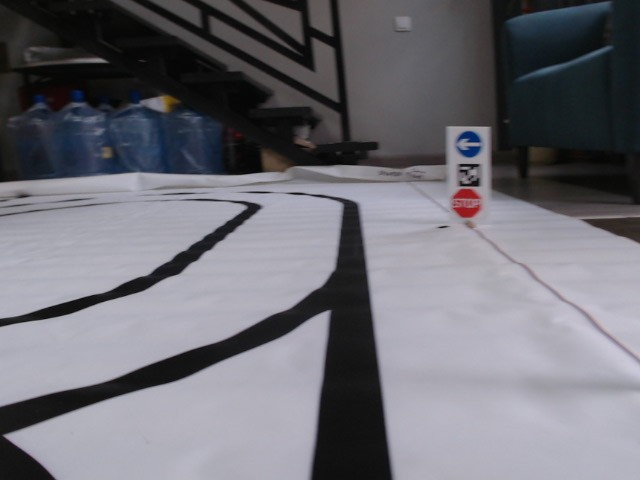Stop: (450, 188, 482, 219)
